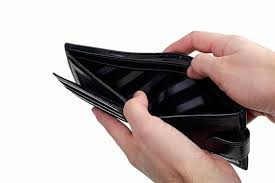monedero: (52, 42, 251, 170)
